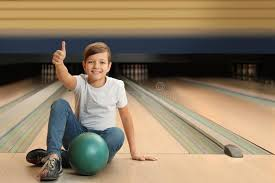person: (25, 35, 164, 183)
